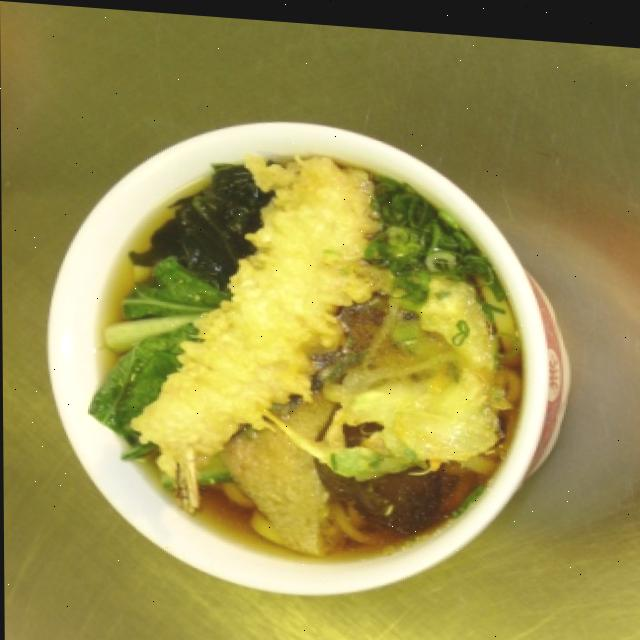面条主食: (84, 140, 517, 571)
